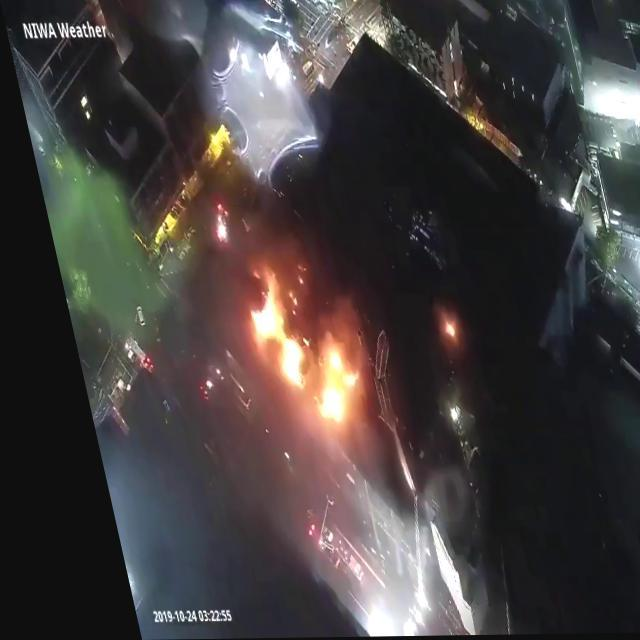Fire: (231, 273, 286, 383), (288, 335, 350, 418), (425, 318, 442, 340)
